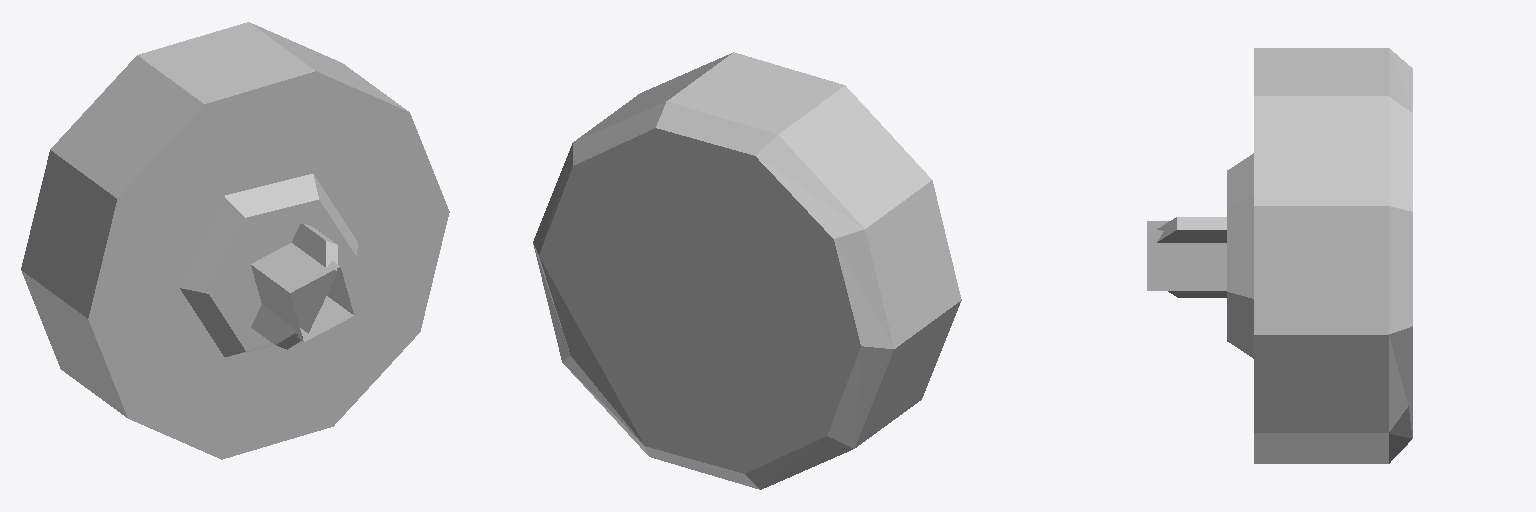
The model's file is wheel.obj.
The picture shows the model from 3 angles: view 1: azimuth 30°, elevation 25°; view 2: azimuth 150°, elevation 25°; view 3: azimuth 270°, elevation 25°; orthographic projection.
Visible parts, largest first — view 1: wheel_low_textures; view 2: wheel_low_textures; view 3: wheel_low_textures.
Boxes of the visible parts, <box> form: wheel_low_textures: <box>21,22,449,459</box>; wheel_low_textures: <box>533,52,961,489</box>; wheel_low_textures: <box>1147,48,1412,463</box>.
Bounding box in the file's own units: 1.56 × 1.51 × 0.9907.